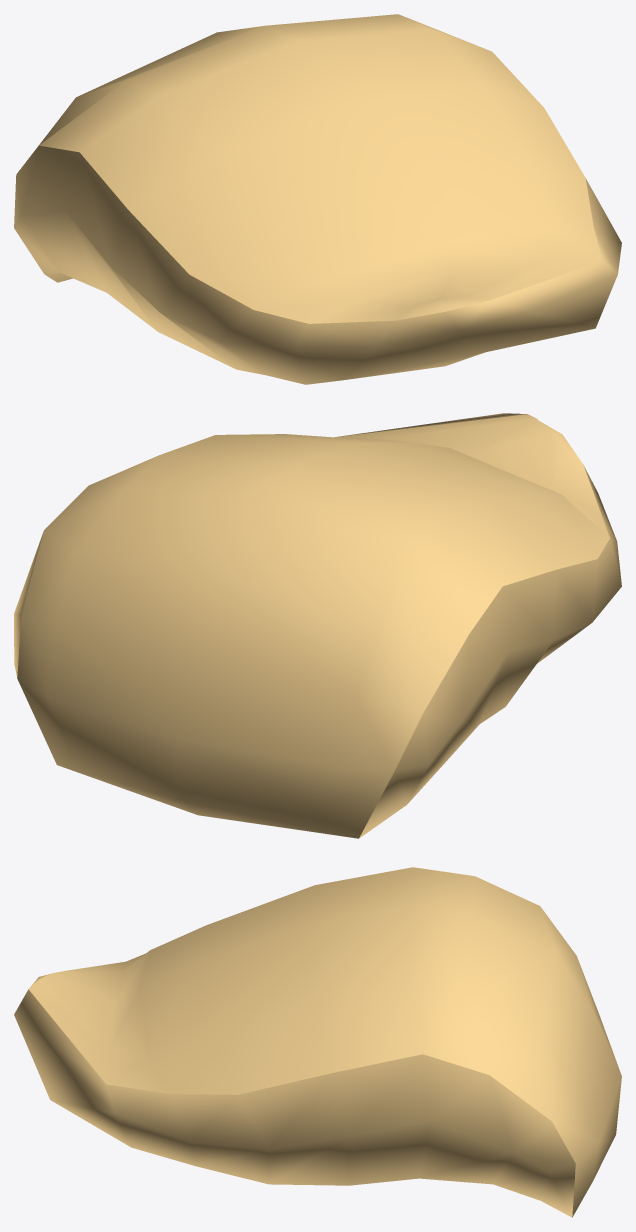
The model's file is importerSkin04Hair.fbx.
3 views of the same model, one above another, from view 1: azimuth 30°, elevation 25°; view 2: azimuth 150°, elevation 25°; view 3: azimuth 270°, elevation 25° (orthographic). The views are drawn at different scales.
Parts seen in each view (by area): view 1: importerSkin04_hair_geo; view 2: importerSkin04_hair_geo; view 3: importerSkin04_hair_geo.
Part boxes in pixels (bbox=[...]): importerSkin04_hair_geo: bbox=[14, 14, 621, 384]; importerSkin04_hair_geo: bbox=[14, 413, 621, 838]; importerSkin04_hair_geo: bbox=[14, 867, 621, 1217].
Size of the model in its own units: 2.54 by 1.49 by 3.28.
1 material, 1 textured.
